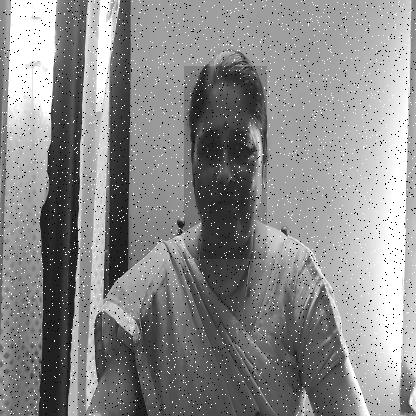Normal: (184, 66, 267, 259)
